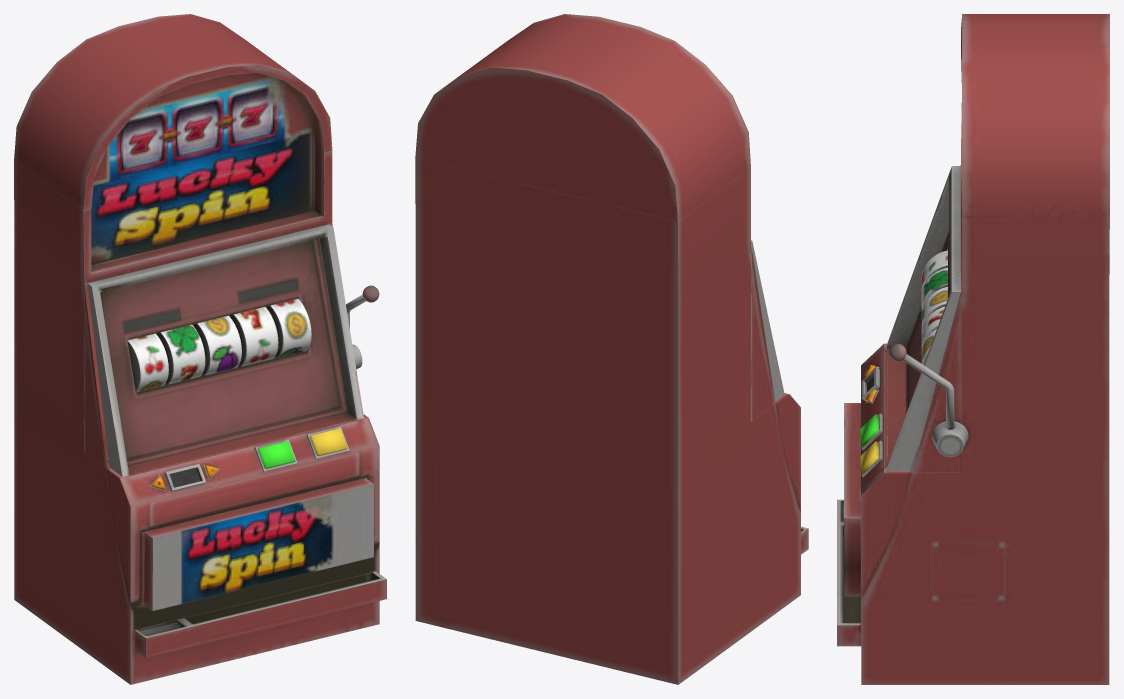
File: slot-lucky-spin.glb
The picture shows the model from 3 angles, left to right: view 1: azimuth 30°, elevation 25°; view 2: azimuth 150°, elevation 25°; view 3: azimuth 270°, elevation 25°; orthographic projection. The views are drawn at different scales.
Parts seen in each view (by area): view 1: slot-lucky-spin_0; view 2: slot-lucky-spin_0; view 3: slot-lucky-spin_0.
Boxes of the visible parts, bbox=[...] form: slot-lucky-spin_0: bbox=[14, 14, 386, 684]; slot-lucky-spin_0: bbox=[415, 14, 808, 684]; slot-lucky-spin_0: bbox=[837, 14, 1109, 684].
Bounding box in the file's own units: 0.8167 × 1.6 × 0.6768.
Materials: 1 (1 with a texture image).
